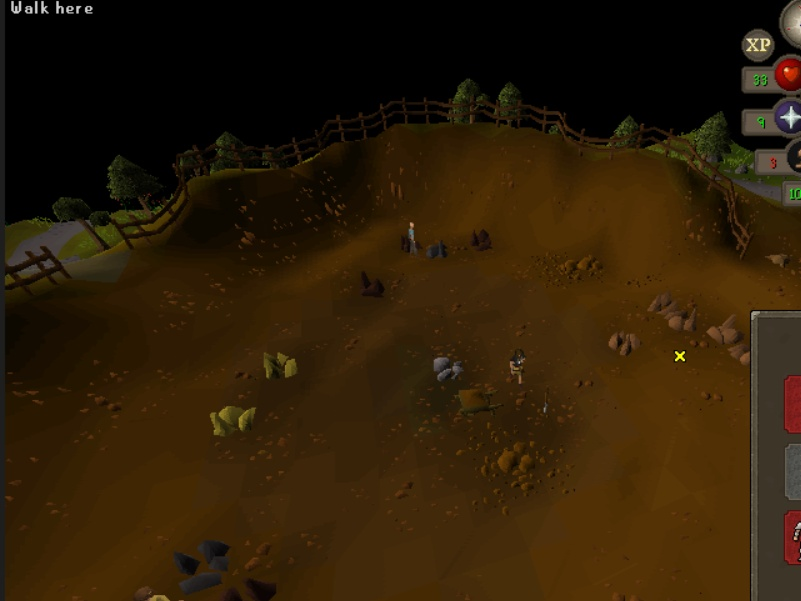copper: (705, 310, 745, 343), (605, 325, 645, 358), (665, 302, 705, 332), (646, 290, 684, 315)
gold: (207, 402, 261, 439), (252, 345, 306, 382)
iron: (352, 262, 398, 308), (459, 220, 505, 266), (397, 232, 423, 253)
